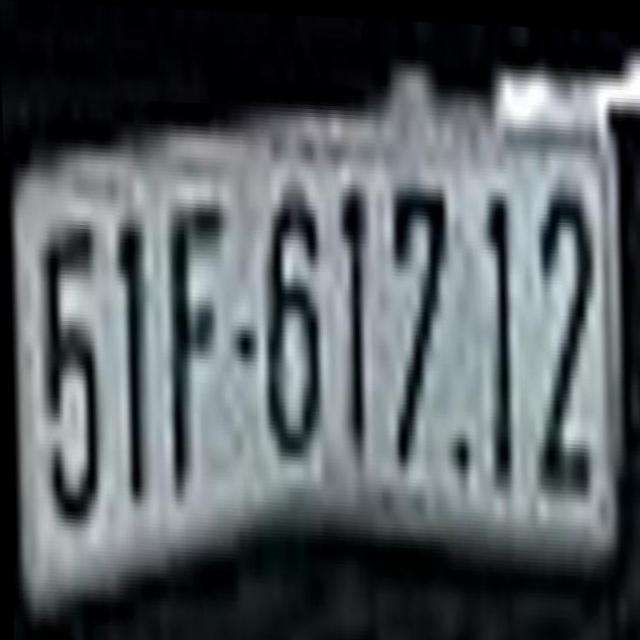1: (112, 198, 147, 553), (480, 170, 516, 506), (335, 138, 369, 477)
2: (532, 157, 600, 525)
5: (40, 207, 100, 539)
6: (258, 154, 323, 490)
7: (380, 120, 451, 499)
F: (163, 169, 232, 506)
